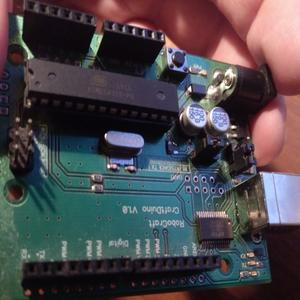duino: (1, 3, 274, 284)
